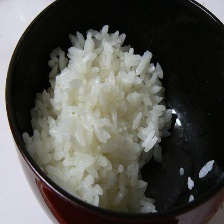rice: (23, 25, 180, 215)
